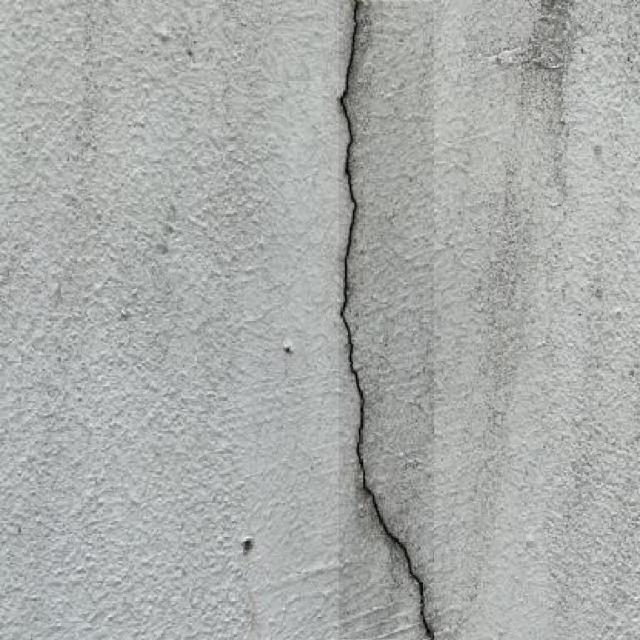vertical crack: (339, 2, 433, 639)
